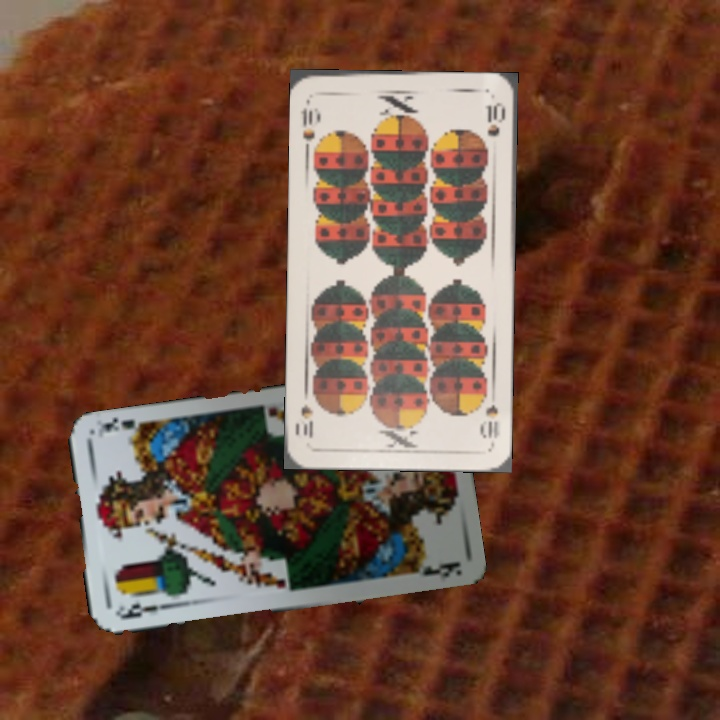EK: (113, 599, 173, 622)
S10: (477, 400, 502, 441), (297, 95, 318, 143)
